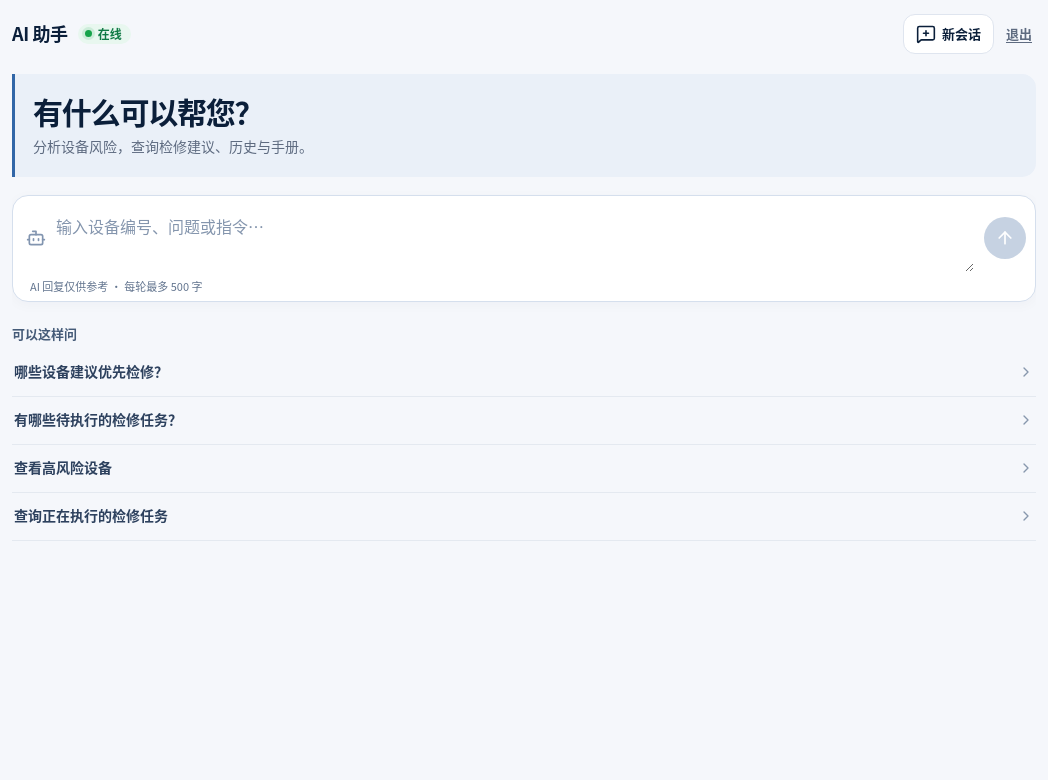
Test case: failed assistant response is labeled clearly and can be retried
In the text box named "输入问题": (515, 238) x1=56 y1=205 x2=974 y2=272, type "分析设备 DEMO-AGM-019 的风险"
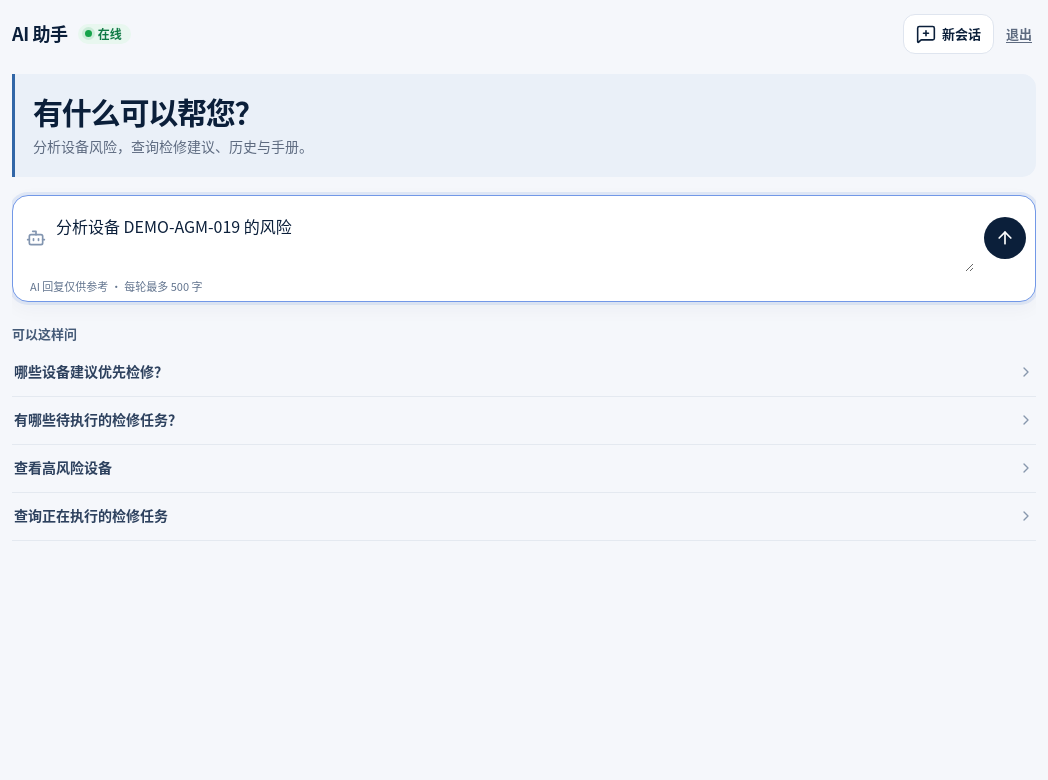
Click the button named "发送": (1005, 238) x1=984 y1=217 x2=1026 y2=259
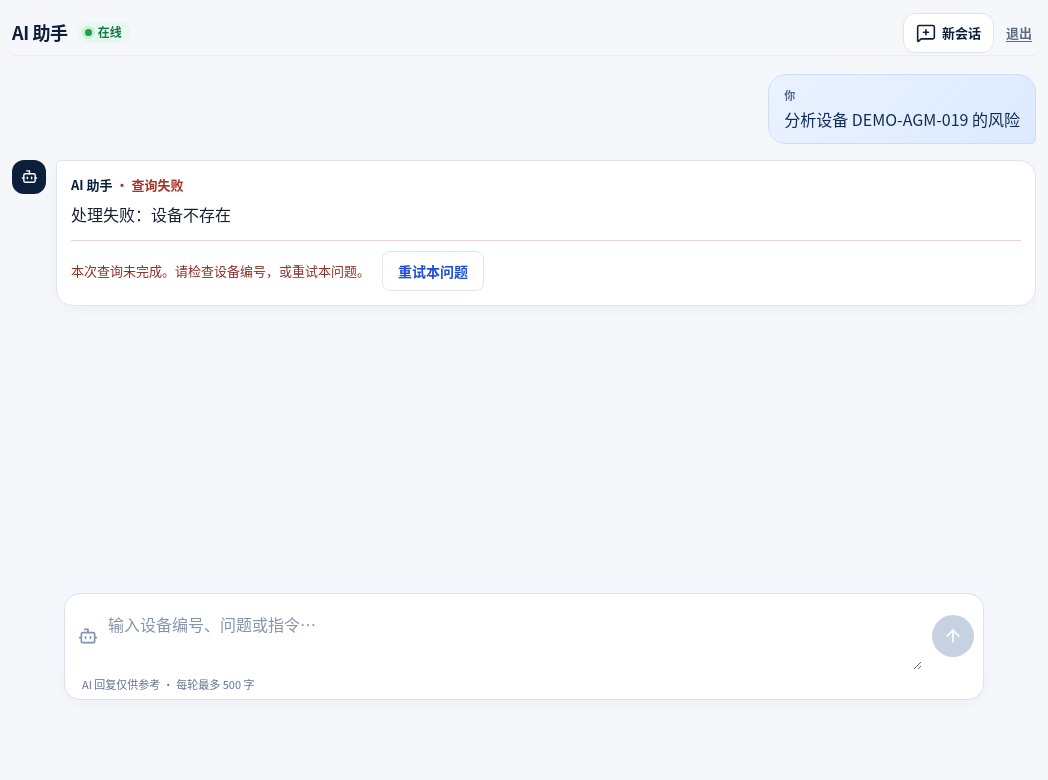
Expected: the text "处理失败：设备不存在" is shown, x1=71 y1=202 x2=231 y2=226
Expected: the element with class "assistant-answer__label" shows "查询失败", x1=132 y1=174 x2=184 y2=194
Expected: the text "本次查询未完成。请检查设备编号，或重试本问题。" is shown, x1=71 y1=261 x2=370 y2=281
Click the button "重试本问题": (433, 271) x1=382 y1=251 x2=484 y2=291
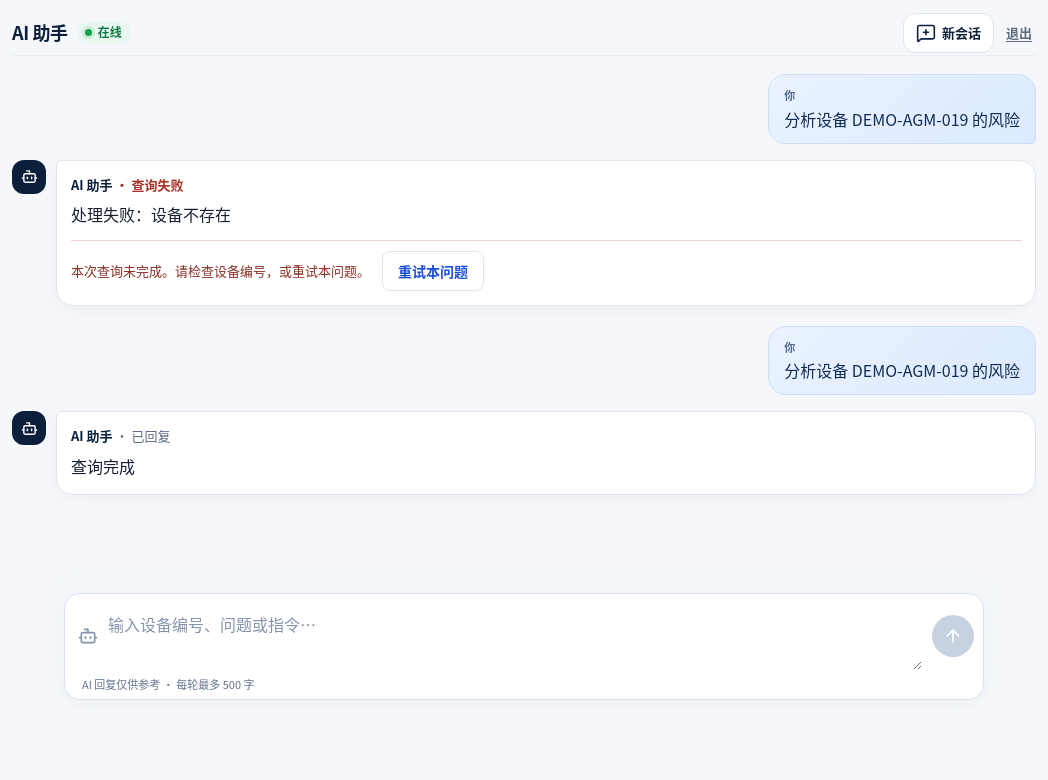
Expected: the text "查询完成" is shown, x1=71 y1=454 x2=135 y2=478
